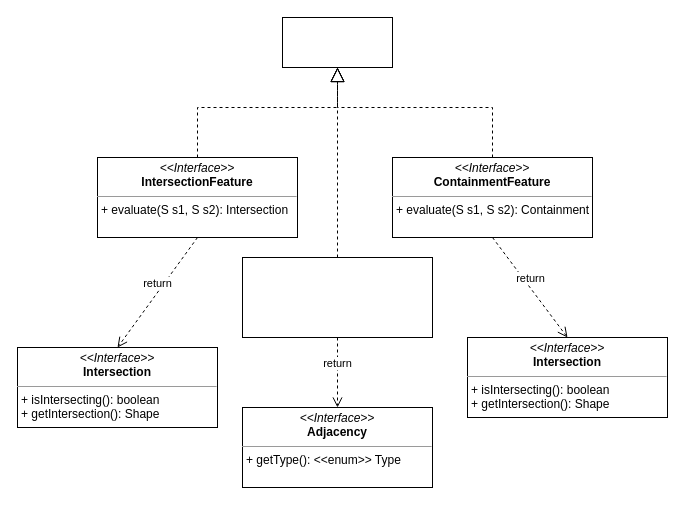
Some shapes in this 685 by 505 pixel diagram are drawn without their labels. Here are the shapes that lost their labels. From the top down, the centre of each, then its label:
point (337, 42): «interface» ShapeFeature
point (337, 297): <<Interface>> AdjacencyFeature + evaluate(S s1, S s2): Adjacency
